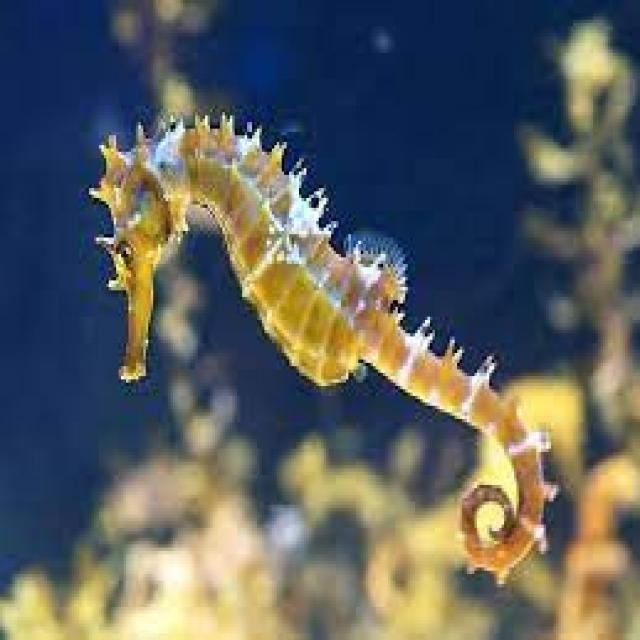SeaHorse: (86, 109, 552, 584)
